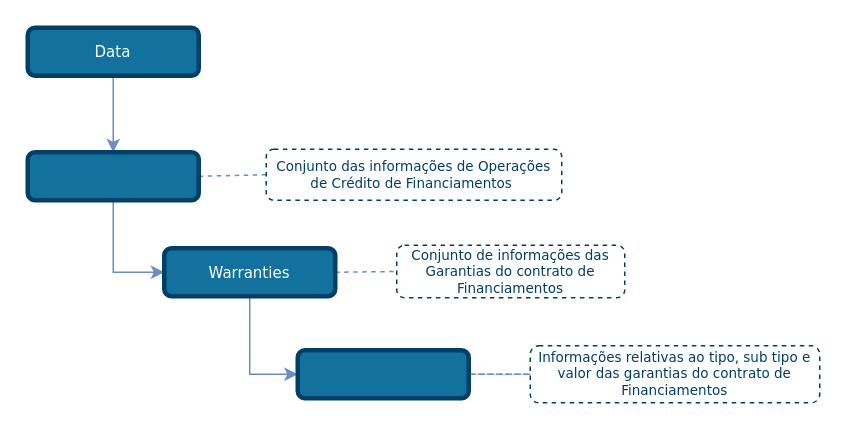
Image size: 846x429. Some labels were removed from this diagram. Here are the shapes that lost their labels. From the top down, the centre of each, then its label:
point (112, 175): Financings
point (382, 373): Contracted Warranties
